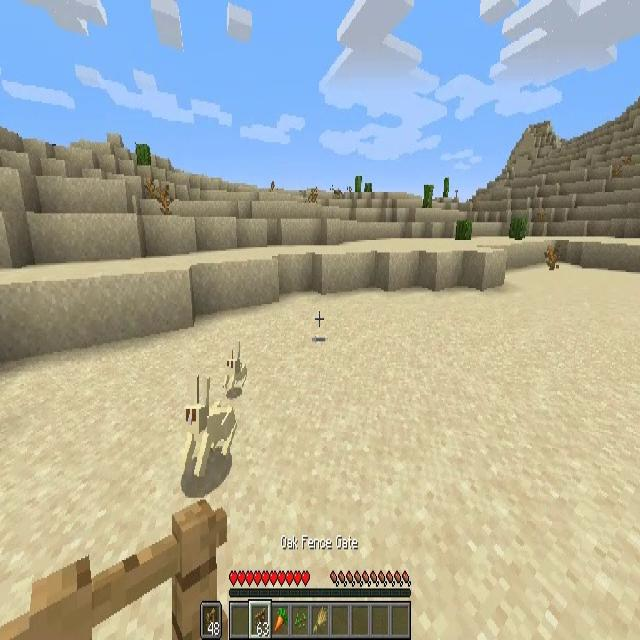rabbit: (184, 376, 236, 478), (224, 342, 248, 397)
